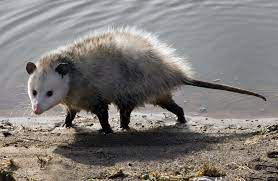opossum: (25, 27, 269, 130)
